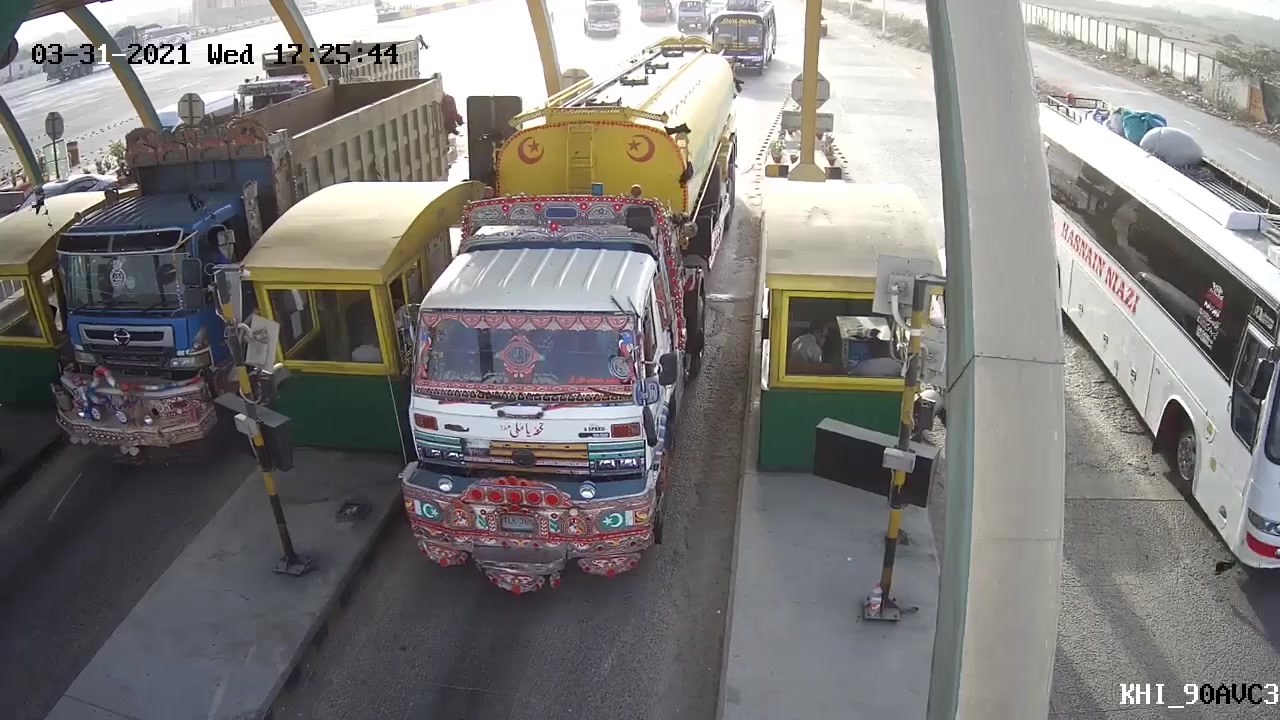F6: (382, 26, 750, 611)
